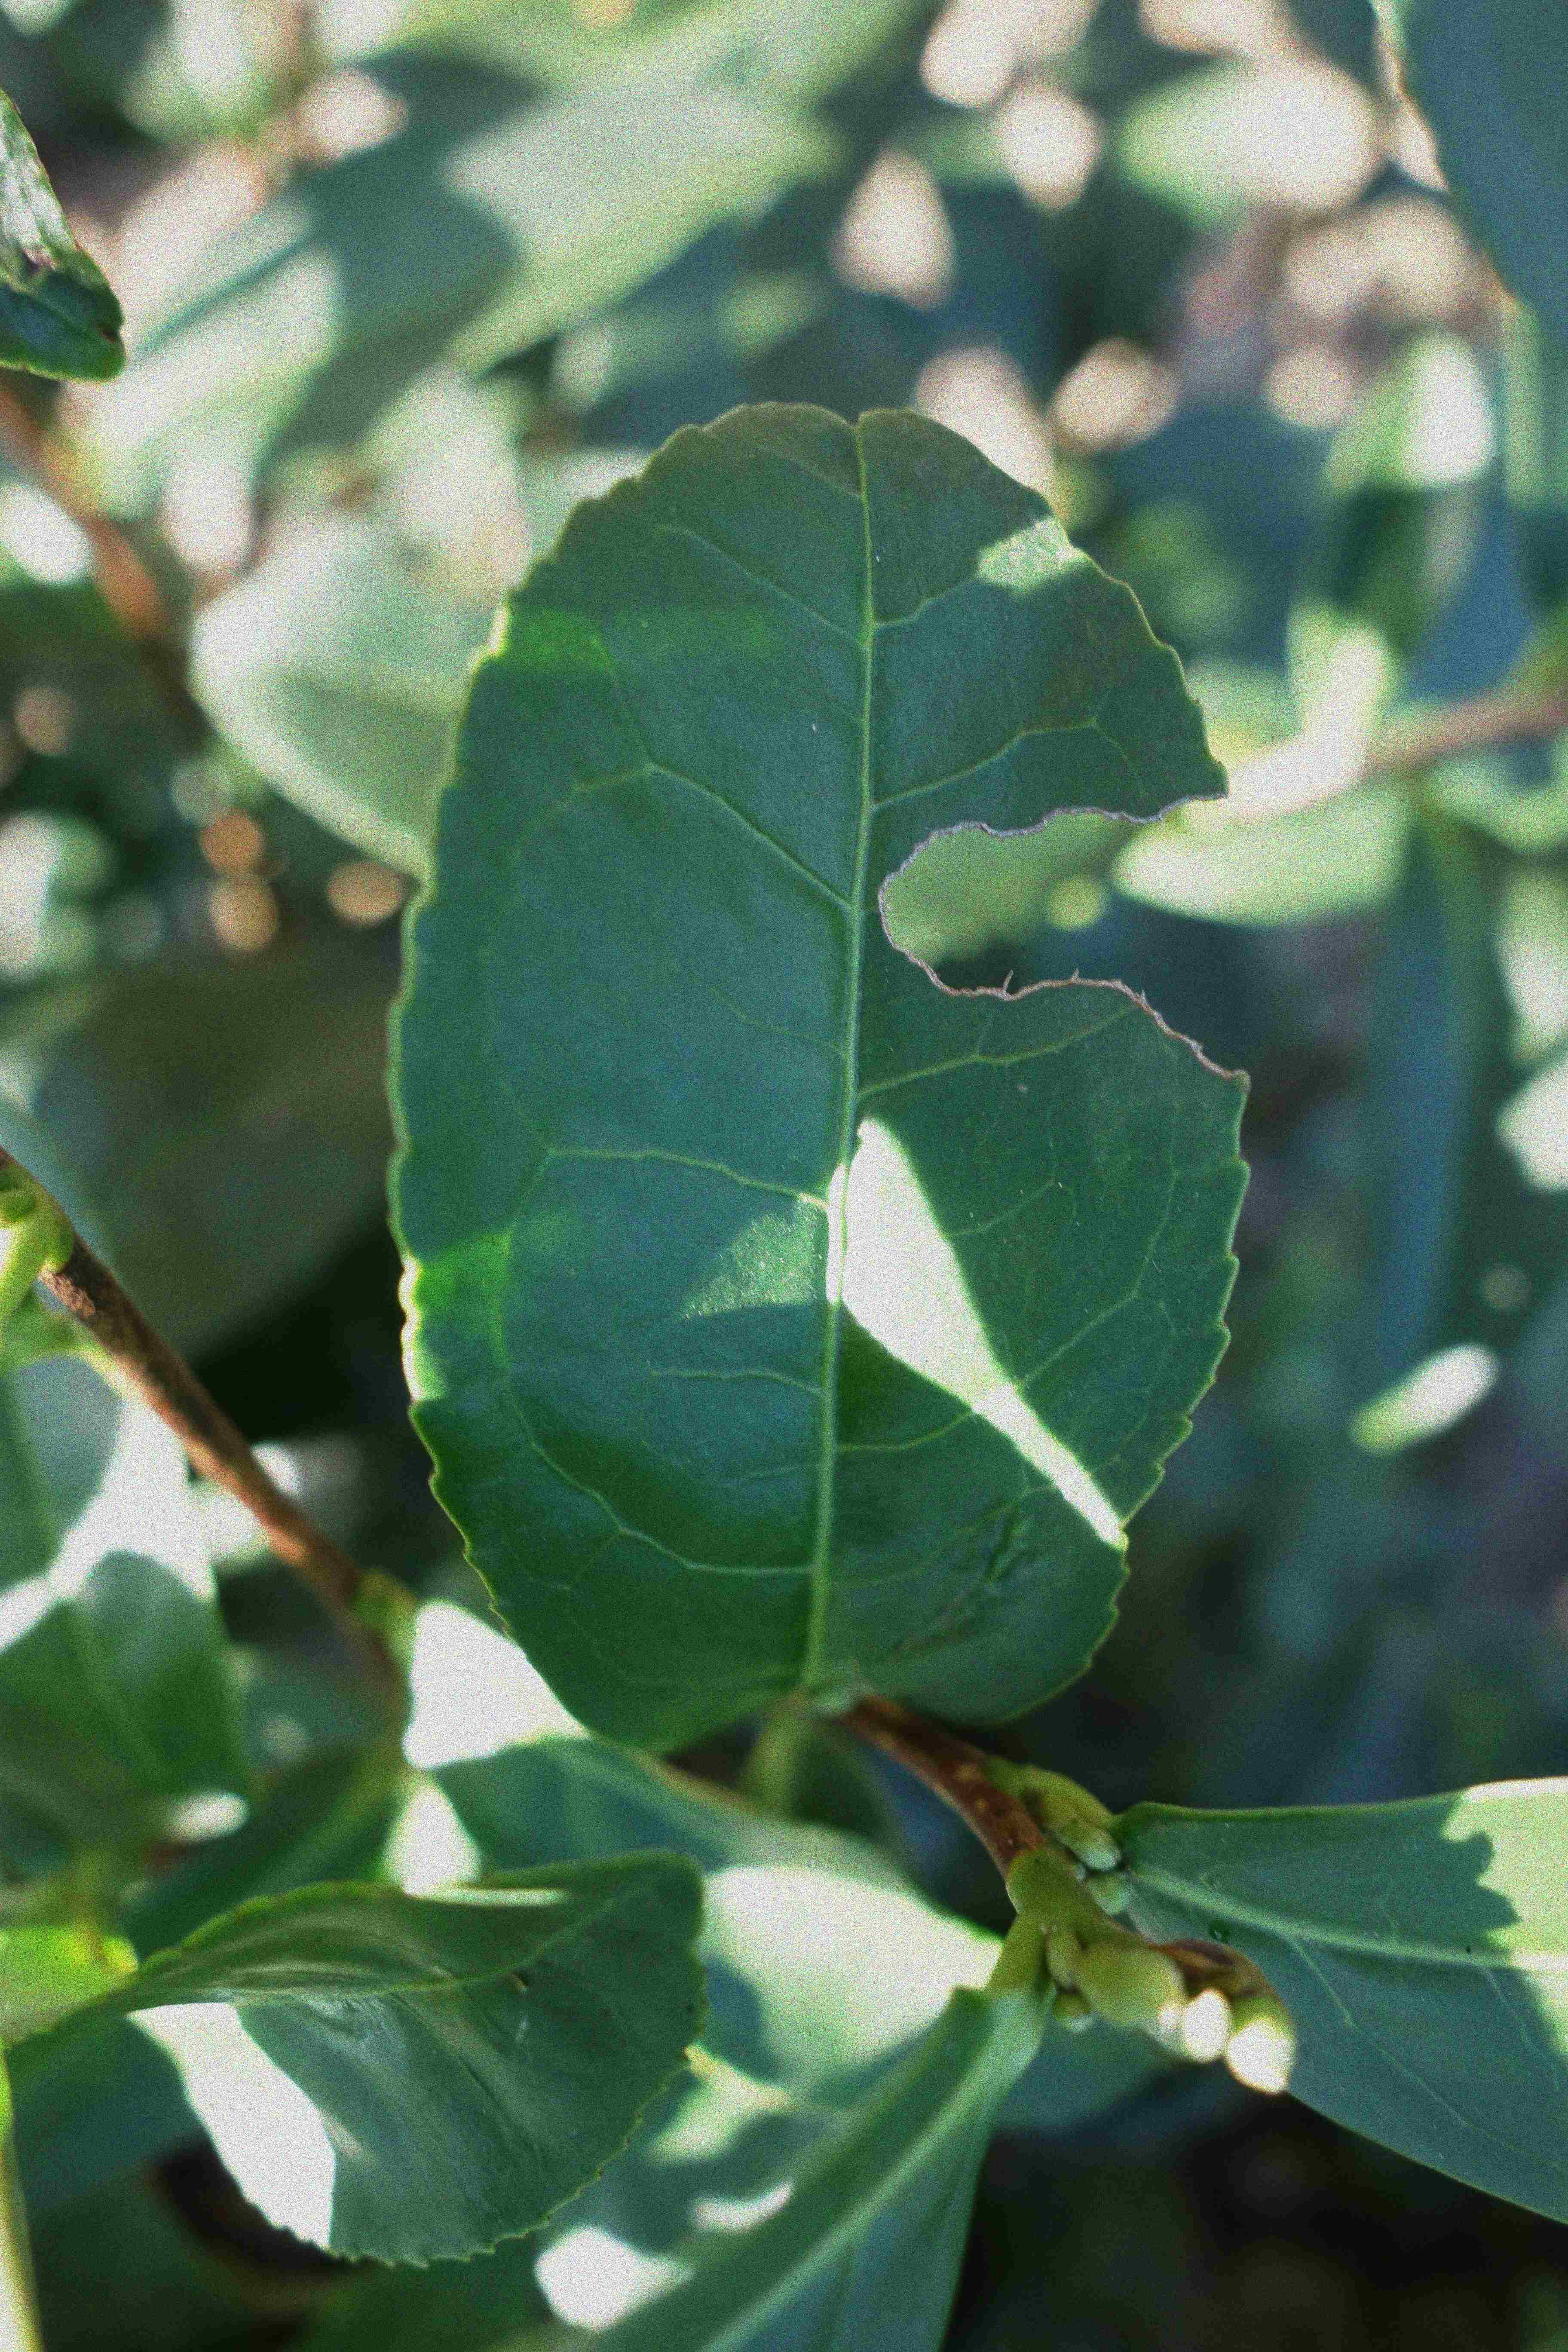chihuo_low: (387, 392, 1262, 1755)
